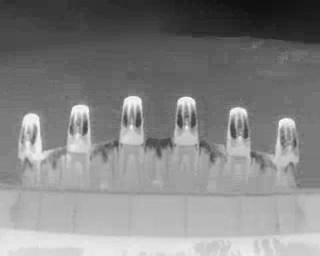claw: (173, 96, 201, 150), (65, 104, 93, 153), (119, 95, 144, 147), (228, 106, 252, 160), (276, 117, 301, 168), (17, 112, 40, 162)
